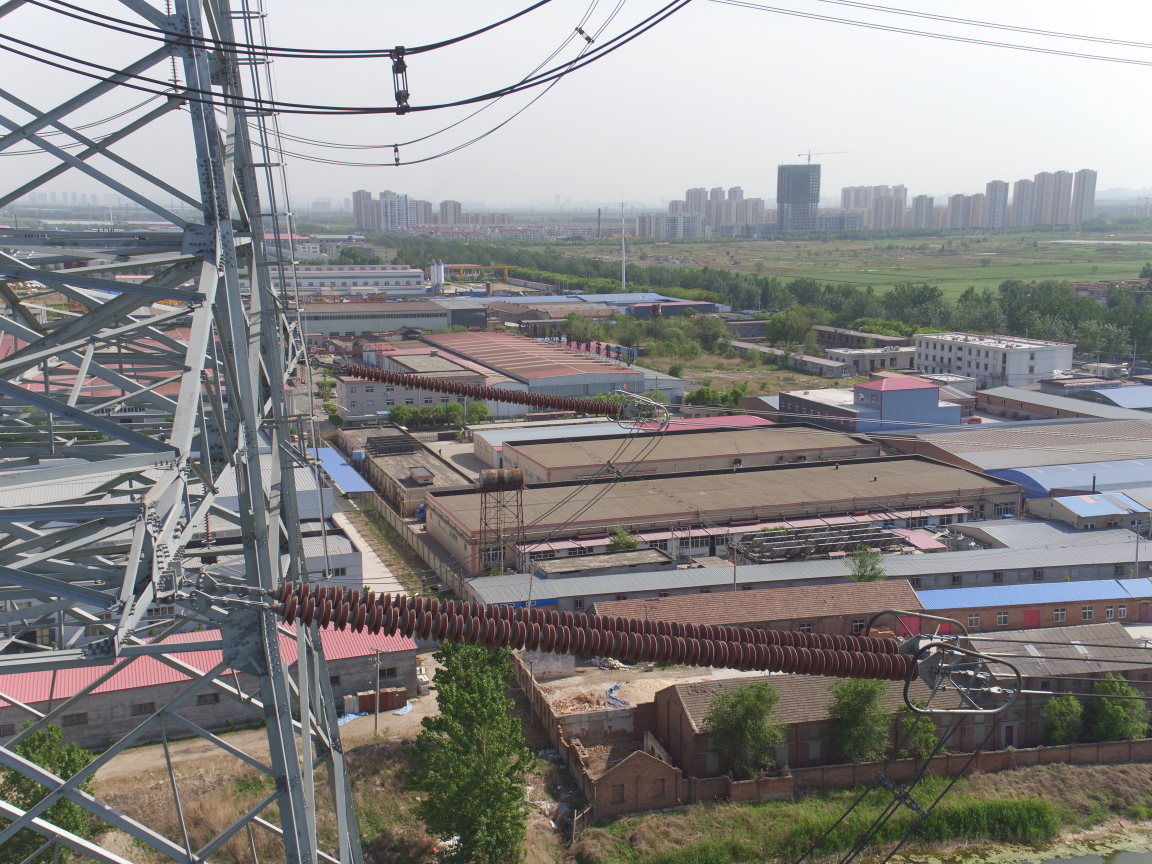insulator: (236, 578, 929, 683), (331, 361, 637, 424)
